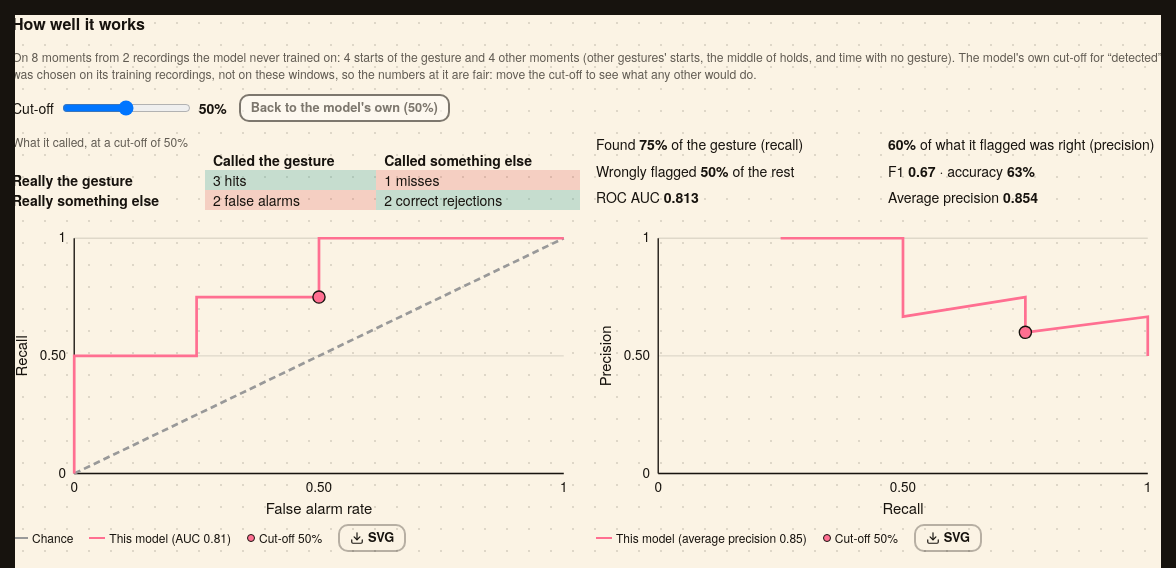
InspectEvaluation › moves the cut-off and everything follows, and goes back to the model's own
Set the slider labelled "Cut-off" to "0.75" at [158, 108], box x1=62 y1=100 x2=191 y2=116
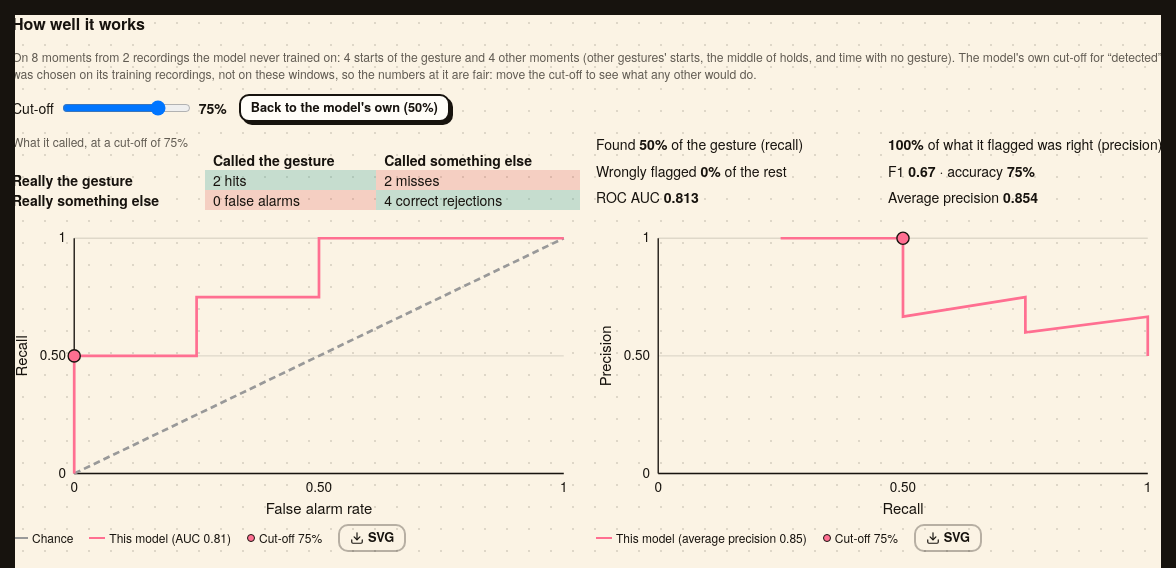
Check: the table named "Confusion at the cut-off" shows "2 hits", box x1=12 y1=134 x2=580 y2=210
Check: the table named "Confusion at the cut-off" shows "0 false alarms", box x1=12 y1=134 x2=580 y2=210
Check: the list named "Rates at the cut-off" shows "Found 50% of the gesture", box x1=596 y1=134 x2=1164 y2=210
Click the button "Back to the model's own (50%)".
click(344, 108)  # box x1=239 y1=94 x2=450 y2=122
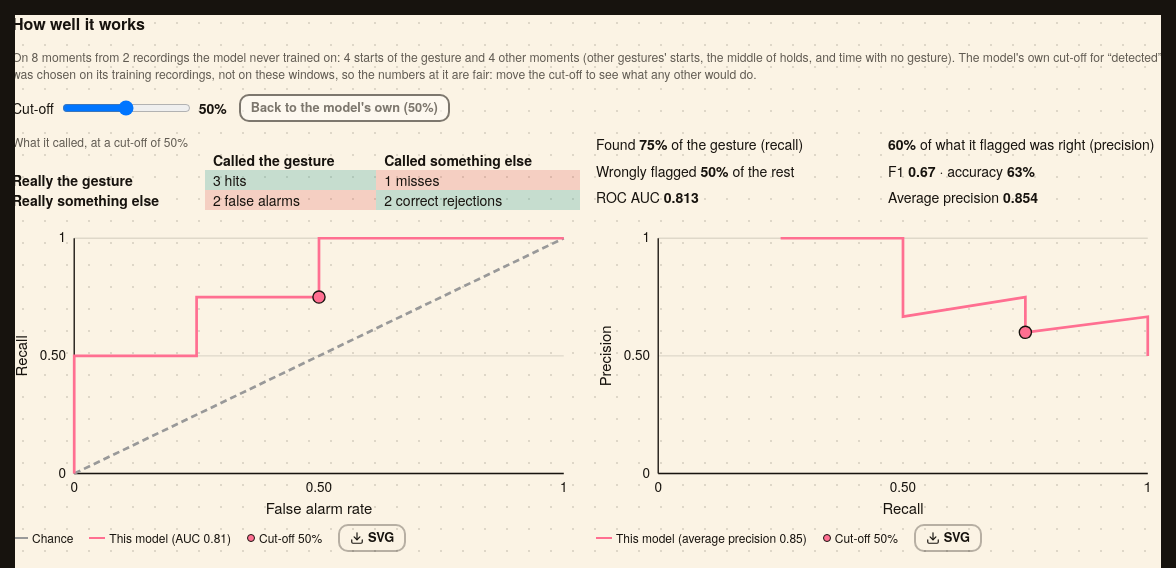
Check: the slider labelled "Cut-off" holds "0.5", box x1=62 y1=100 x2=191 y2=116
Check: the button "Back to the model's own (50%)" is disabled, box x1=239 y1=94 x2=450 y2=122
